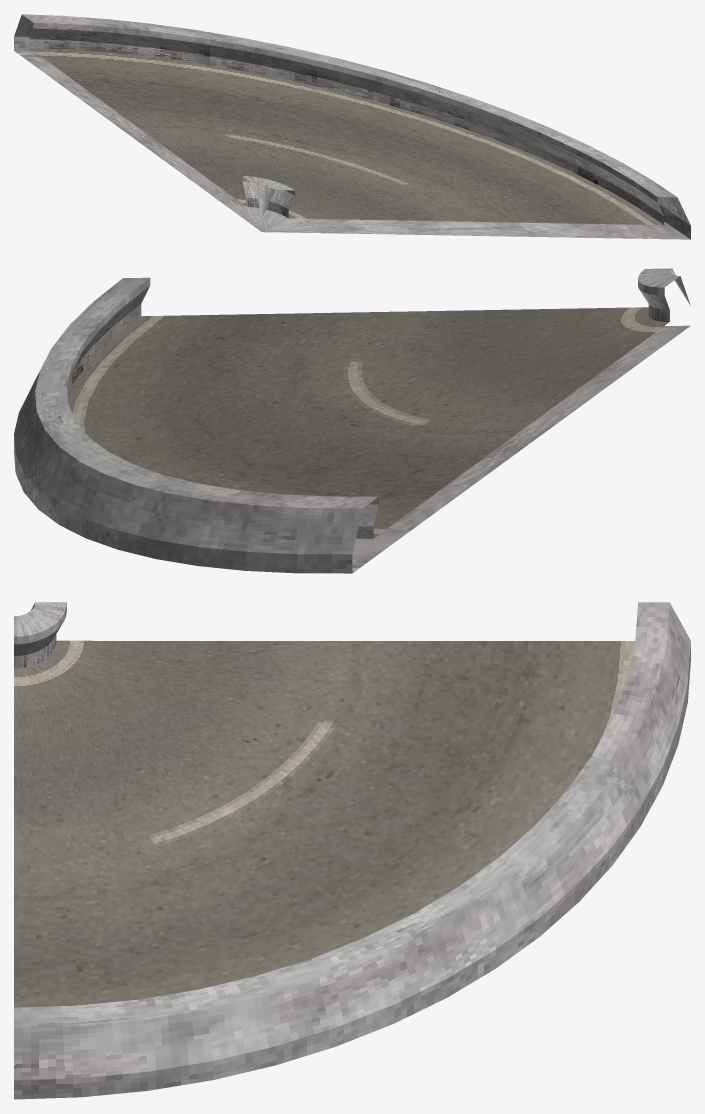
File: road-Turn-HalfBankedRight-BiSlopeUp-Up1-Left-Size1.glb
3 views of the same model, one above another, from view 1: azimuth 30°, elevation 25°; view 2: azimuth 150°, elevation 25°; view 3: azimuth 270°, elevation 25° (orthographic). The views are drawn at different scales.
Parts seen in each view (by area): view 1: road-Turn-HalfBankedRight-BiSlopeUp-Up1-Left-Size1; view 2: road-Turn-HalfBankedRight-BiSlopeUp-Up1-Left-Size1; view 3: road-Turn-HalfBankedRight-BiSlopeUp-Up1-Left-Size1.
Boxes of the visible parts, box(x1,y1,x2,y2) form: road-Turn-HalfBankedRight-BiSlopeUp-Up1-Left-Size1: box(14, 14, 690, 239); road-Turn-HalfBankedRight-BiSlopeUp-Up1-Left-Size1: box(14, 268, 690, 573); road-Turn-HalfBankedRight-BiSlopeUp-Up1-Left-Size1: box(14, 602, 690, 1099).
Size of the model in its own units: 1 by 0.3437 by 1.
2 materials, 2 textured.
